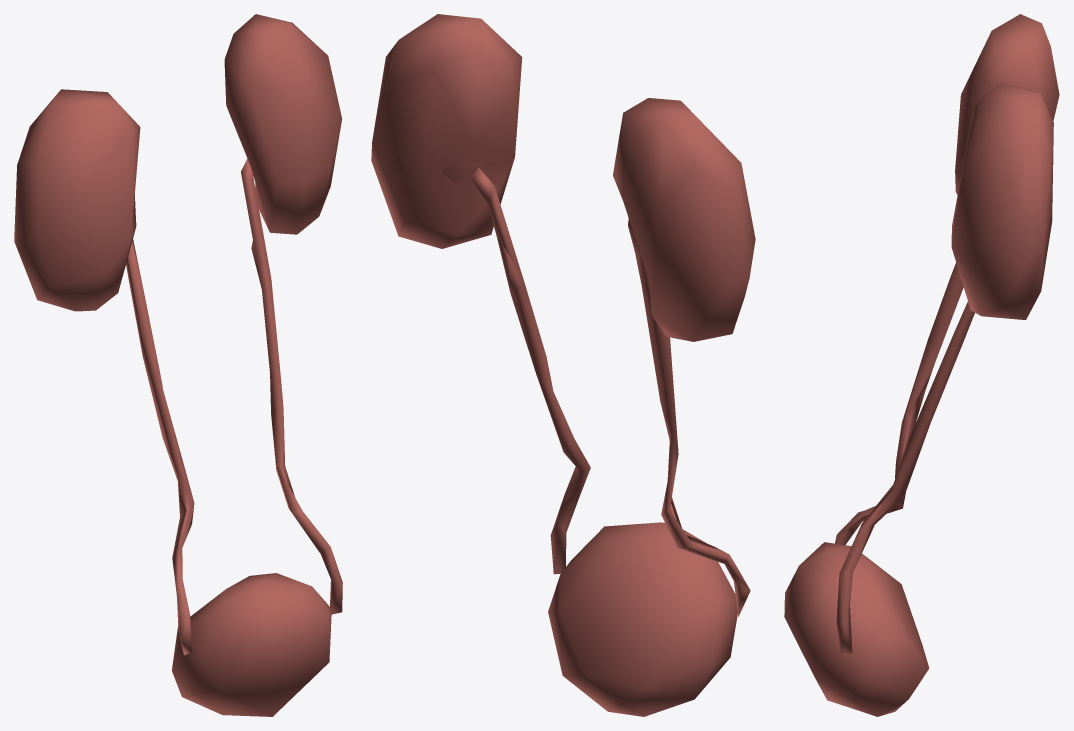
The model's file is pediatric_adolescent_female.urinary.LOD3.glb.
3 renders of one model, left to right at view 1: azimuth 30°, elevation 25°; view 2: azimuth 150°, elevation 25°; view 3: azimuth 270°, elevation 25°, orthographic. The views are drawn at different scales.
Visible parts, largest first — view 1: PEDIATRIC.ADOLESCENT.FEMALE.URINARY.KIDNEY_CORTEX.R, PEDIATRIC.ADOLESCENT.FEMALE.URINARY.KIDNEY_CORTEX.L, PEDIATRIC.ADOLESCENT.FEMALE.URINARY.URINARY_BLADDER_WALL, PEDIATRIC.ADOLESCENT.FEMALE.URINARY.URETER.L, PEDIATRIC.ADOLESCENT.FEMALE.URINARY.URETER.R; view 2: PEDIATRIC.ADOLESCENT.FEMALE.URINARY.URINARY_BLADDER_WALL, PEDIATRIC.ADOLESCENT.FEMALE.URINARY.KIDNEY_CORTEX.L, PEDIATRIC.ADOLESCENT.FEMALE.URINARY.KIDNEY_CORTEX.R, PEDIATRIC.ADOLESCENT.FEMALE.URINARY.URETER.L, PEDIATRIC.ADOLESCENT.FEMALE.URINARY.URETER.R; view 3: PEDIATRIC.ADOLESCENT.FEMALE.URINARY.KIDNEY_CORTEX.L, PEDIATRIC.ADOLESCENT.FEMALE.URINARY.URINARY_BLADDER_WALL, PEDIATRIC.ADOLESCENT.FEMALE.URINARY.KIDNEY_CORTEX.R, PEDIATRIC.ADOLESCENT.FEMALE.URINARY.URETER.L, PEDIATRIC.ADOLESCENT.FEMALE.URINARY.URETER.R.
Part boxes in pixels (bbox=[...]): PEDIATRIC.ADOLESCENT.FEMALE.URINARY.KIDNEY_CORTEX.R: bbox=[14, 89, 140, 311]; PEDIATRIC.ADOLESCENT.FEMALE.URINARY.KIDNEY_CORTEX.L: bbox=[224, 14, 341, 234]; PEDIATRIC.ADOLESCENT.FEMALE.URINARY.URINARY_BLADDER_WALL: bbox=[172, 573, 331, 716]; PEDIATRIC.ADOLESCENT.FEMALE.URINARY.URETER.L: bbox=[241, 159, 342, 614]; PEDIATRIC.ADOLESCENT.FEMALE.URINARY.URETER.R: bbox=[126, 239, 194, 655]; PEDIATRIC.ADOLESCENT.FEMALE.URINARY.URINARY_BLADDER_WALL: bbox=[548, 522, 737, 716]; PEDIATRIC.ADOLESCENT.FEMALE.URINARY.KIDNEY_CORTEX.L: bbox=[371, 14, 522, 248]; PEDIATRIC.ADOLESCENT.FEMALE.URINARY.KIDNEY_CORTEX.R: bbox=[613, 98, 755, 341]; PEDIATRIC.ADOLESCENT.FEMALE.URINARY.URETER.L: bbox=[471, 167, 590, 574]; PEDIATRIC.ADOLESCENT.FEMALE.URINARY.URETER.R: bbox=[628, 219, 750, 616]; PEDIATRIC.ADOLESCENT.FEMALE.URINARY.KIDNEY_CORTEX.L: bbox=[951, 82, 1053, 319]; PEDIATRIC.ADOLESCENT.FEMALE.URINARY.URINARY_BLADDER_WALL: bbox=[784, 542, 929, 716]; PEDIATRIC.ADOLESCENT.FEMALE.URINARY.KIDNEY_CORTEX.R: bbox=[955, 14, 1059, 194]; PEDIATRIC.ADOLESCENT.FEMALE.URINARY.URETER.L: bbox=[836, 302, 974, 653]; PEDIATRIC.ADOLESCENT.FEMALE.URINARY.URETER.R: bbox=[835, 262, 963, 544].
Bounding box in the file's own units: 0.1722 × 0.3176 × 0.12.
